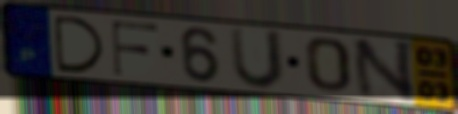0: (302, 35, 356, 95)
6: (179, 26, 222, 85)
D: (50, 13, 109, 76)
F: (109, 19, 161, 78)
N: (349, 38, 419, 104)
U: (227, 25, 286, 92)
